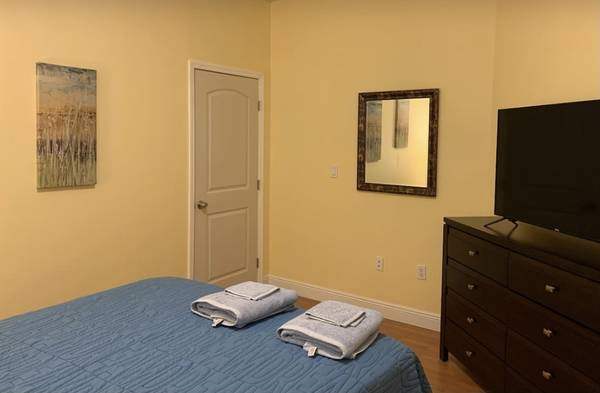bed: (1, 277, 426, 393)
dresser: (440, 215, 600, 393)
mirror: (355, 86, 438, 198)
